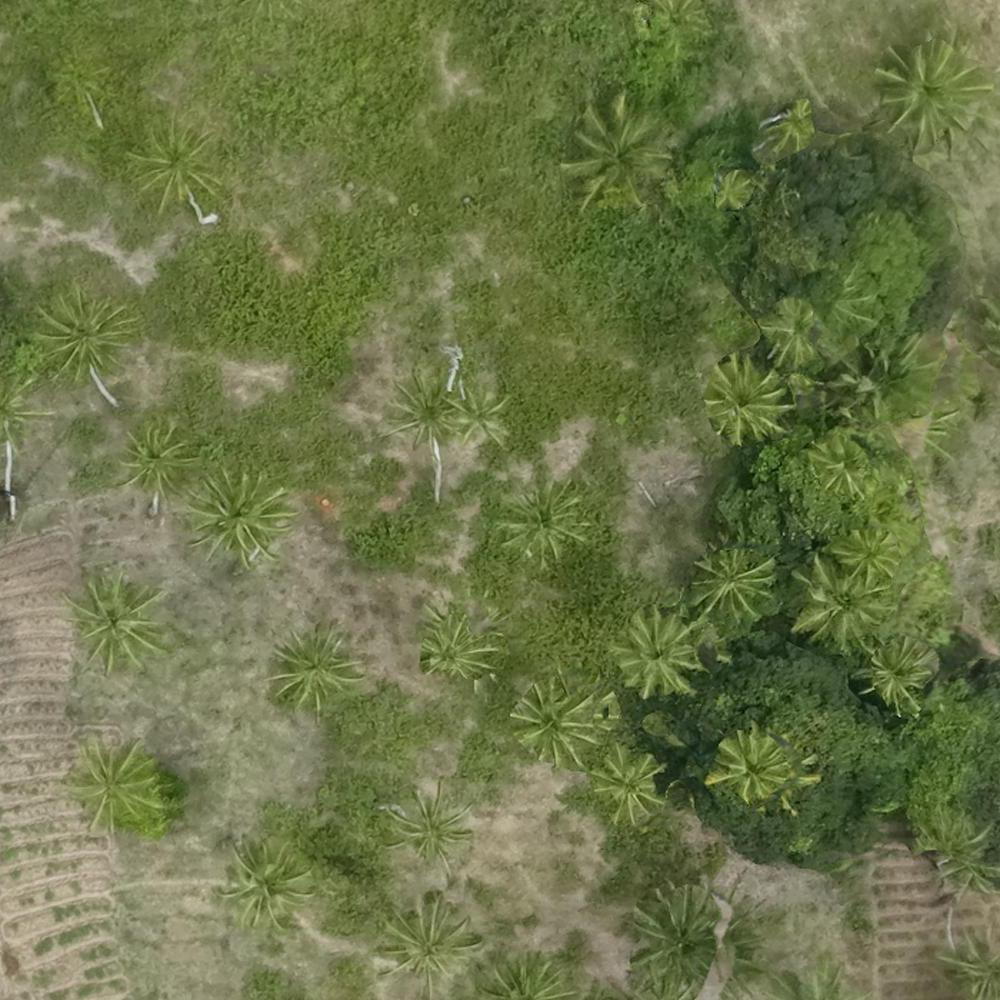Palm: (876, 41, 985, 145), (630, 891, 731, 991), (186, 468, 285, 563), (126, 117, 224, 212), (574, 99, 667, 198), (70, 571, 167, 665), (67, 738, 167, 828), (788, 554, 888, 643), (382, 896, 474, 991), (40, 286, 133, 378), (217, 840, 308, 932), (700, 357, 794, 445), (264, 627, 361, 711), (498, 479, 585, 567), (385, 776, 472, 861), (612, 611, 699, 696), (116, 416, 198, 501), (514, 680, 599, 759), (411, 606, 495, 683), (695, 543, 779, 616), (382, 373, 462, 446), (590, 749, 666, 817), (442, 381, 512, 449), (864, 646, 934, 712), (715, 736, 786, 797)
